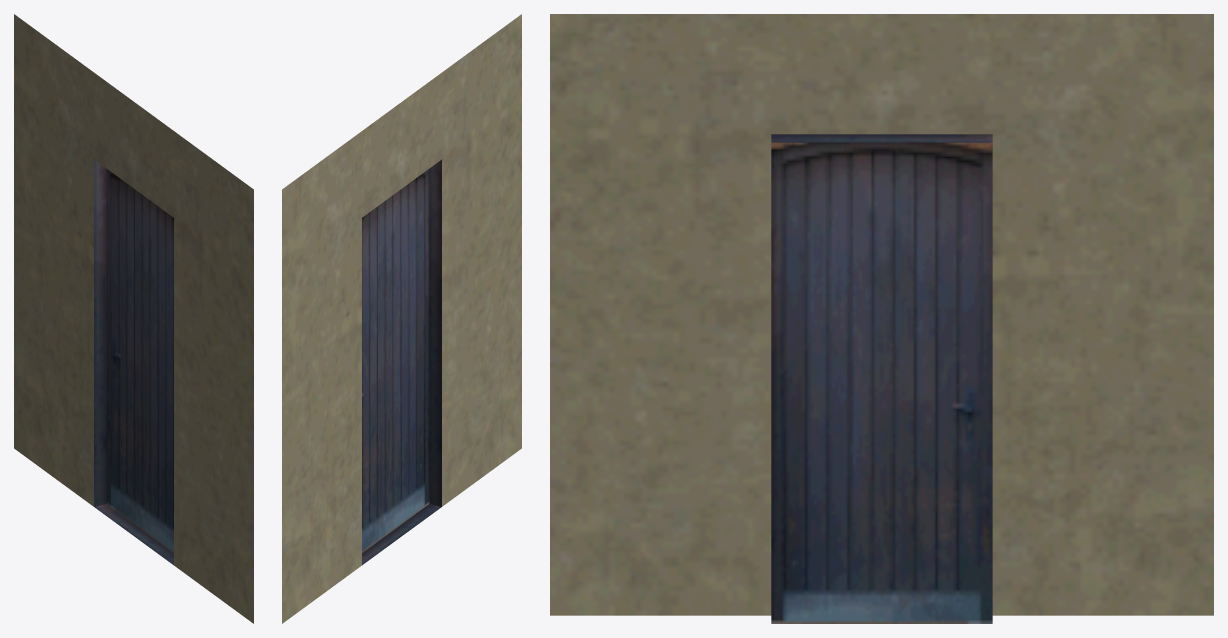
The model's file is Urban_StucoWallDoorIndent_Model.fbx.
The picture shows the model from 3 angles, left to right: view 1: azimuth 30°, elevation 25°; view 2: azimuth 150°, elevation 25°; view 3: azimuth 270°, elevation 25°; orthographic projection. The views are drawn at different scales.
Parts seen in each view (by area): view 1: Urban_StucoWallDoorIndent_Mesh; view 2: Urban_StucoWallDoorIndent_Mesh; view 3: Urban_StucoWallDoorIndent_Mesh.
Part boxes in pixels (box(x1,y1,x2,y2)): Urban_StucoWallDoorIndent_Mesh: box(14, 14, 253, 623); Urban_StucoWallDoorIndent_Mesh: box(282, 14, 521, 623); Urban_StucoWallDoorIndent_Mesh: box(550, 14, 1213, 623).
Bounding box in the file's own units: 0.0635 × 2.1 × 2.1.
